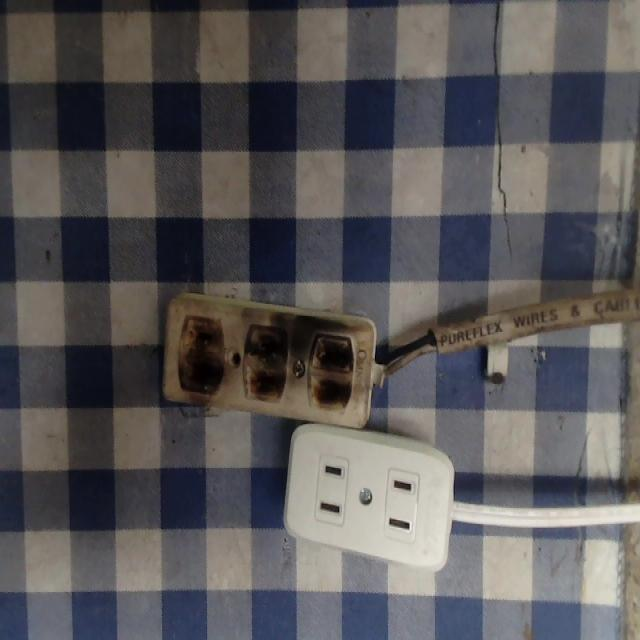-: (175, 309, 228, 399), (237, 320, 292, 405), (305, 328, 354, 412)
